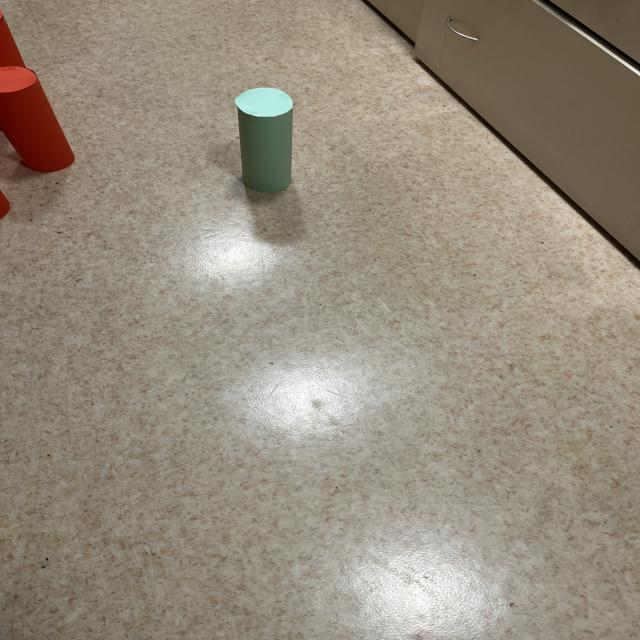meta: (234, 87, 293, 193)
